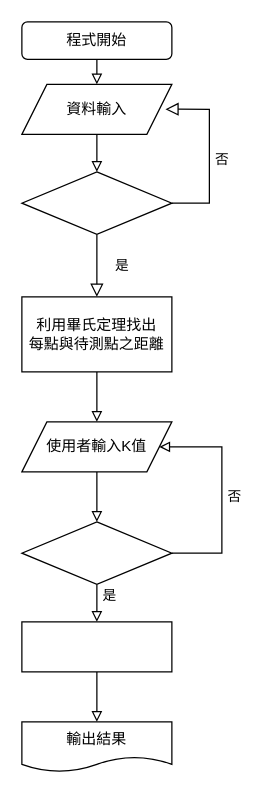
This 263x794 diagram has some shape labels left out. The shapes that lost their labels are listed below. From the top down, each one's centre as x and y in pixels, then its label:
point (96, 202): 是否為完整資料
point (96, 552): K值是否合理
point (96, 646): 搜尋最靠近的K個點
